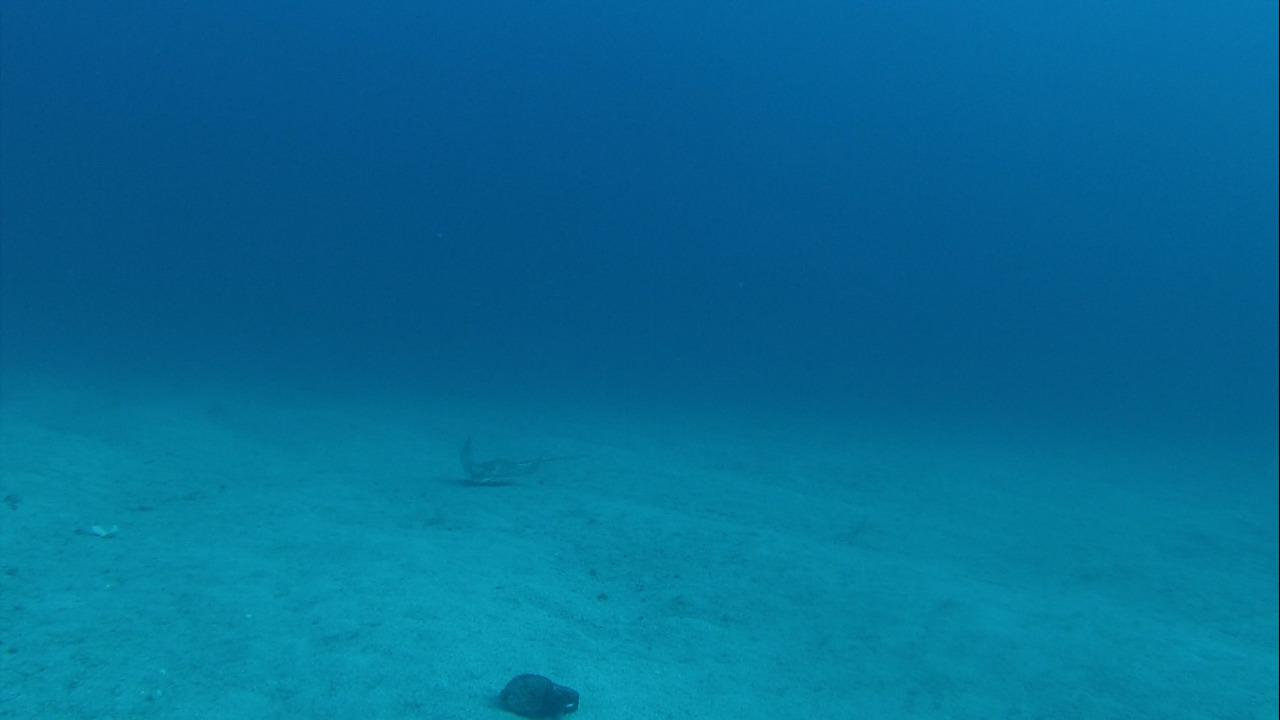myliobatis: (442, 433, 574, 487)
